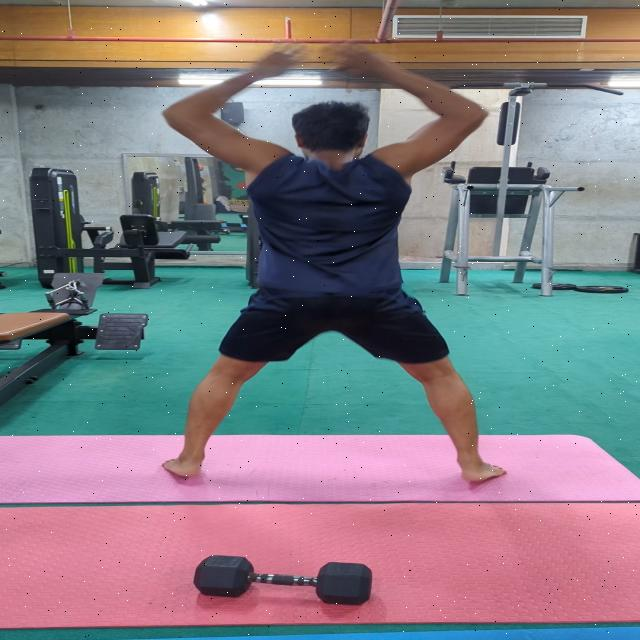Normal_JumpingJacks: (101, 22, 549, 504)
